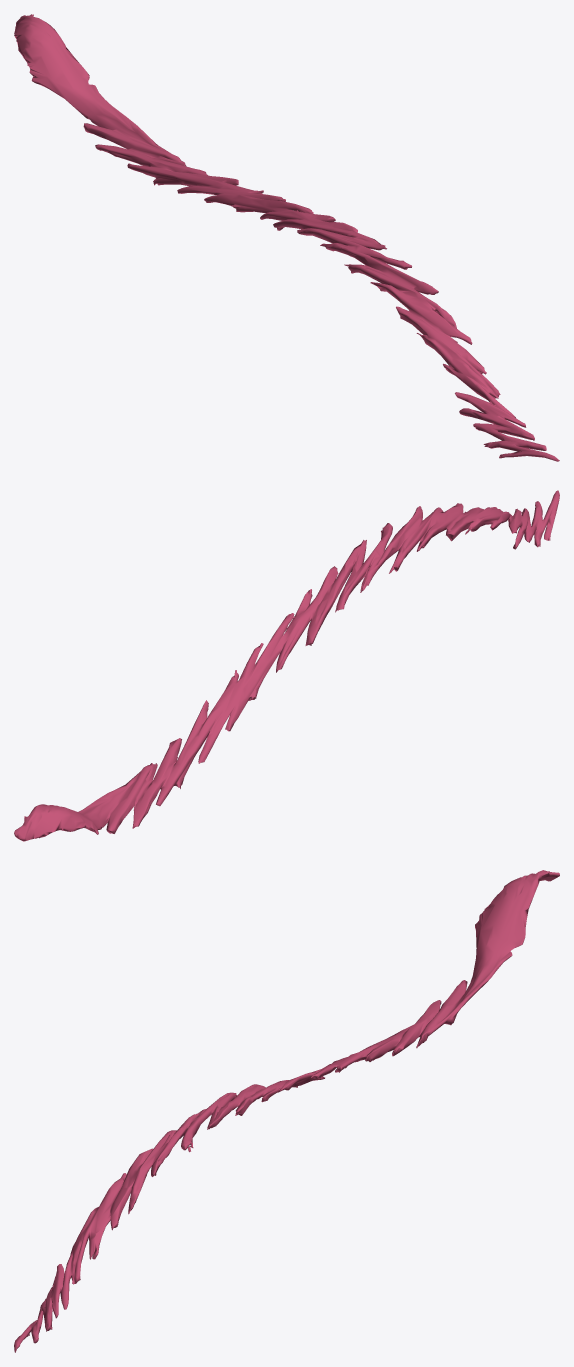
The picture shows the model from 3 angles, top to bottom: view 1: azimuth 30°, elevation 25°; view 2: azimuth 150°, elevation 25°; view 3: azimuth 330°, elevation 25°; orthographic projection. The views are drawn at different scales.
Parts seen in each view (by area): view 1: 右侧回旋肌; view 2: 右侧回旋肌; view 3: 右侧回旋肌.
Part boxes in pixels (box(x1,y1,x2,y2)): 右侧回旋肌: box(14, 14, 559, 461); 右侧回旋肌: box(14, 490, 559, 841); 右侧回旋肌: box(14, 870, 559, 1352).
Size of the model in its own units: 0.0562 by 0.098 by 0.9362.
